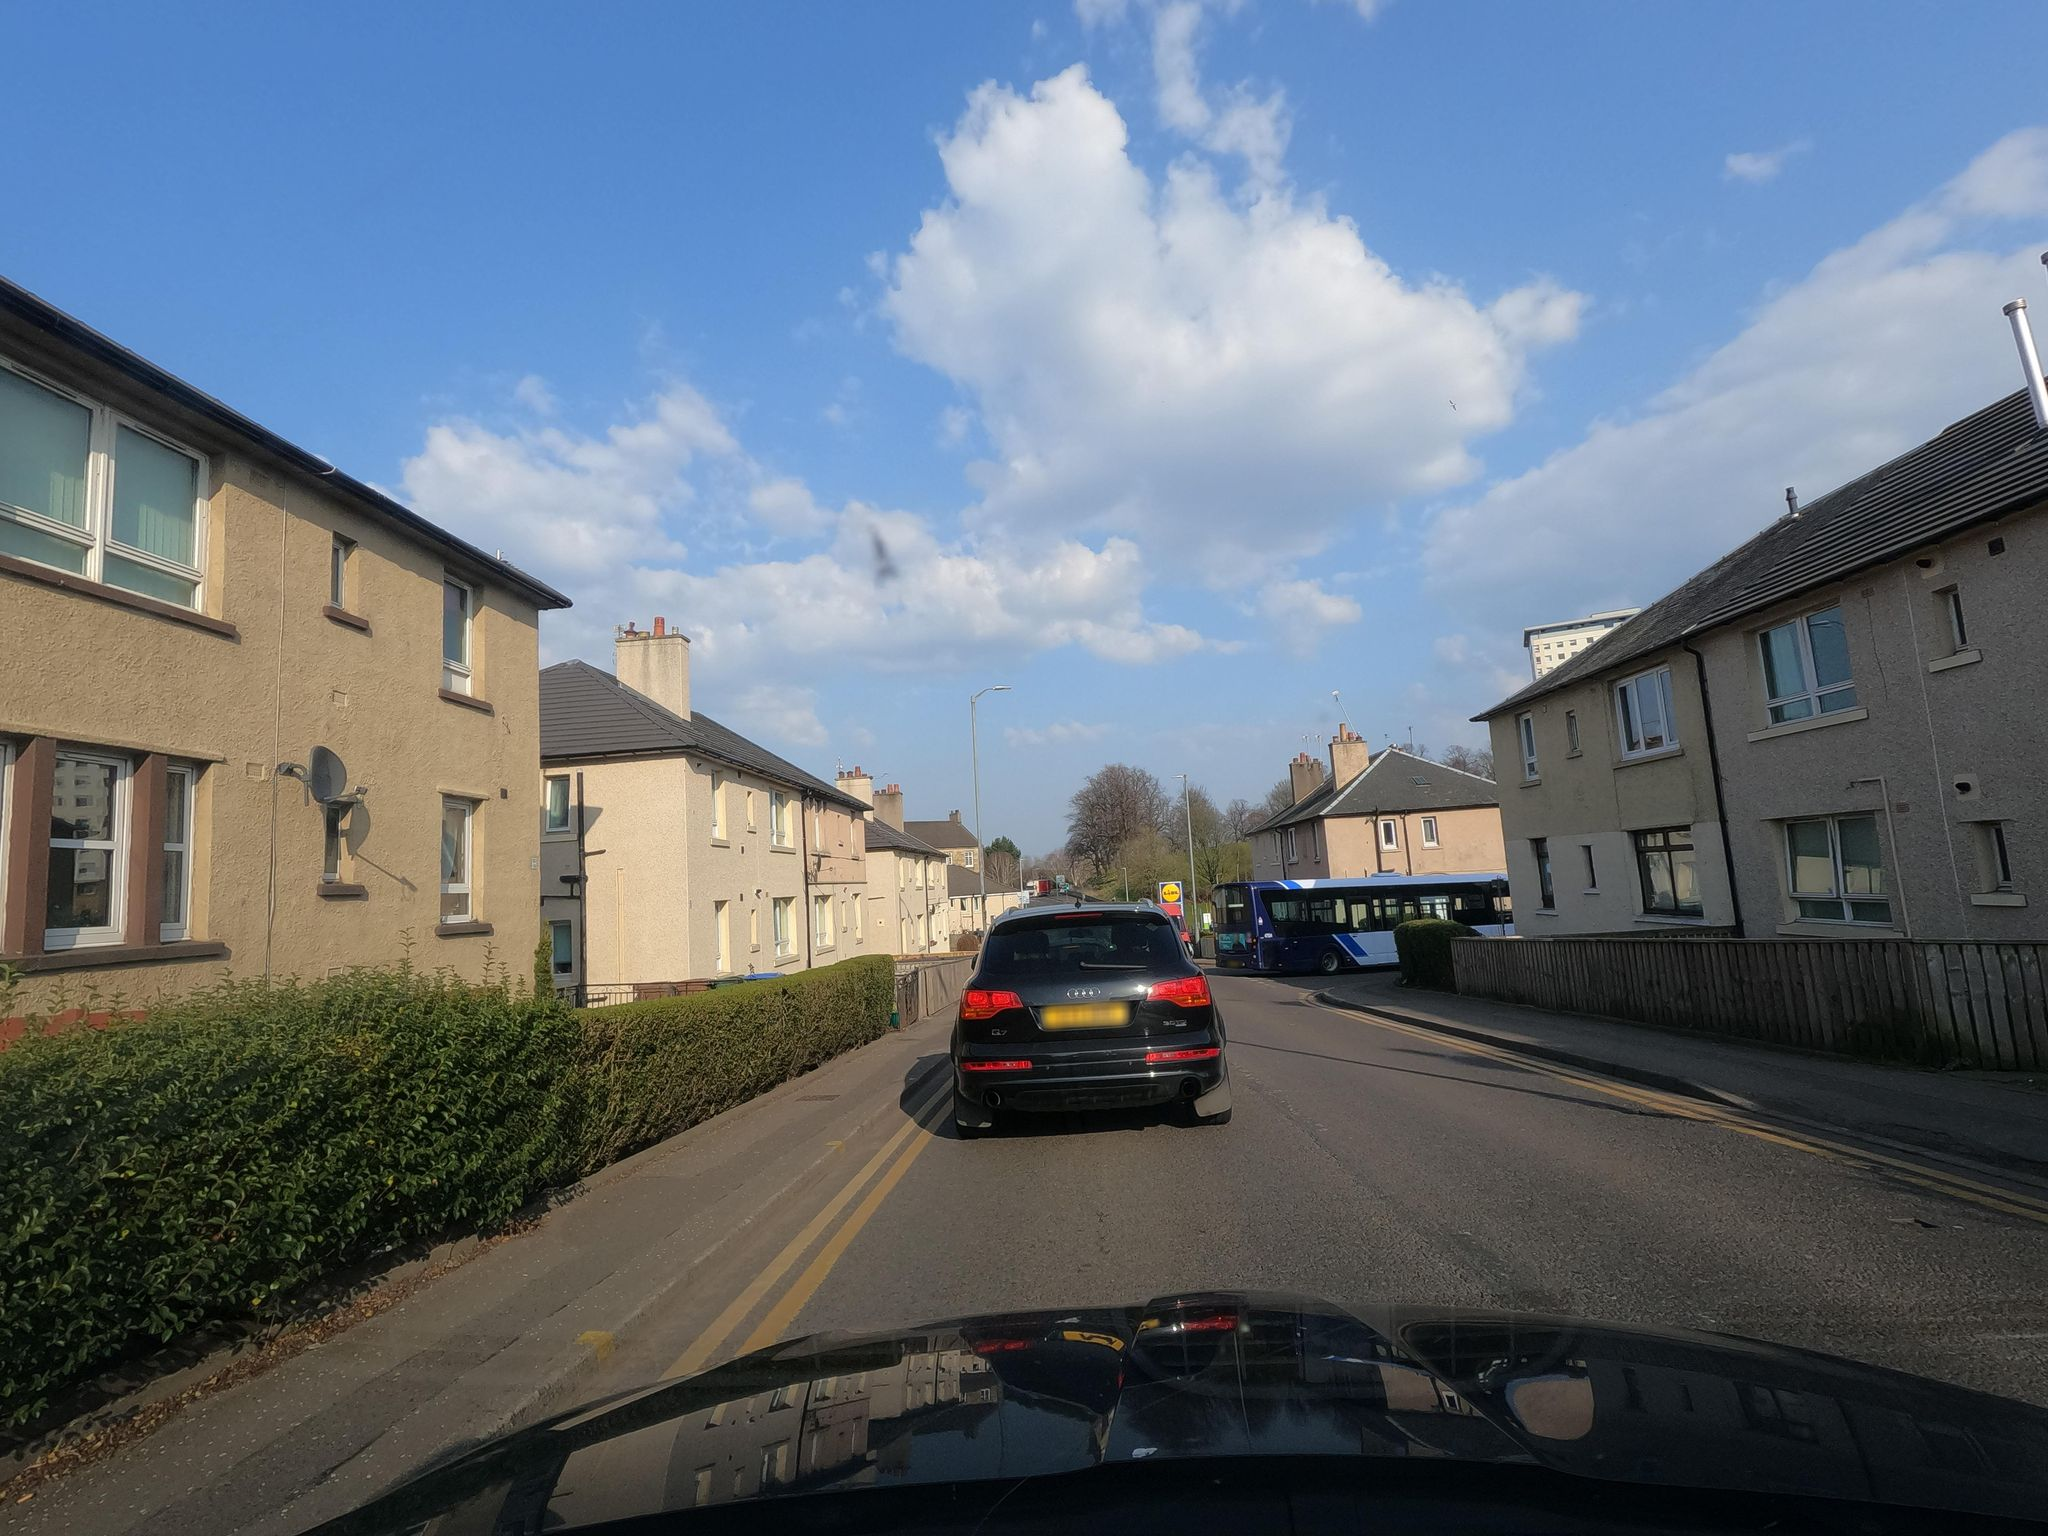bus: (1213, 871, 1521, 983)
car: (943, 900, 1234, 1139)
